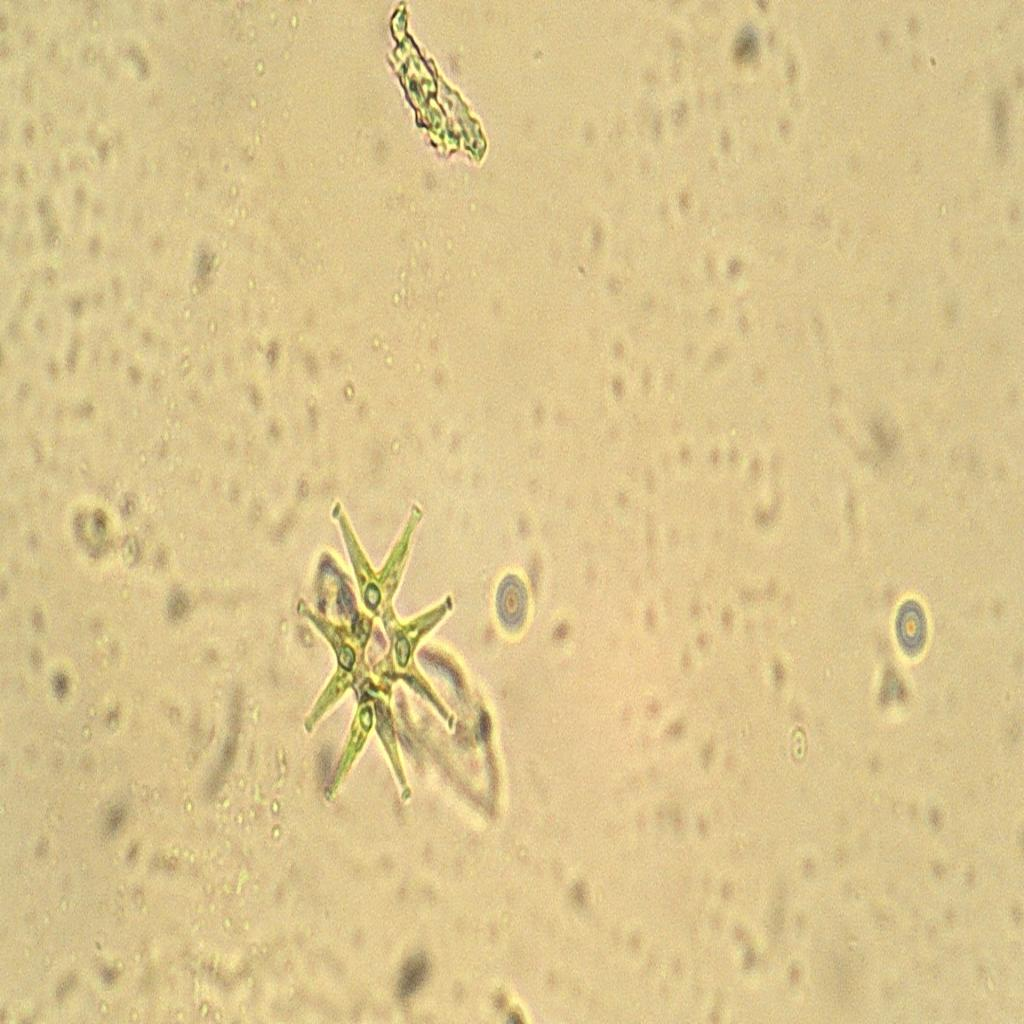Pediastrum_CF: (288, 494, 470, 821)
